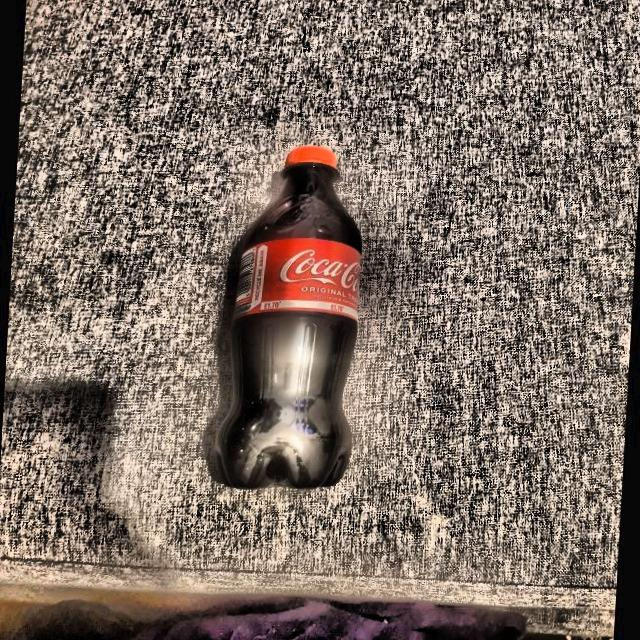coke-bottle: (206, 146, 365, 496)
